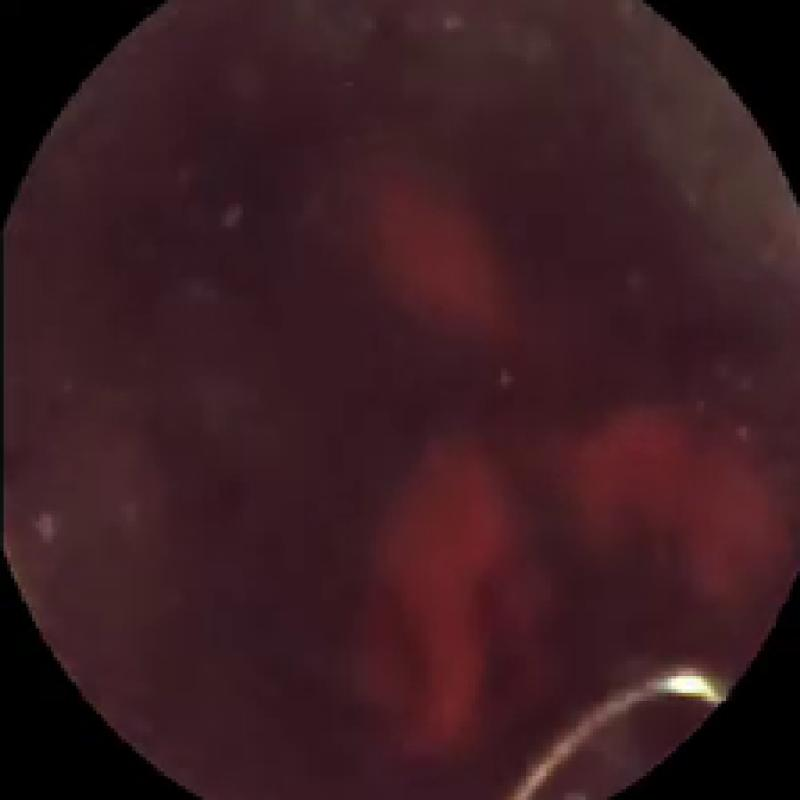bleeding: (356, 441, 542, 761), (564, 411, 787, 626), (364, 193, 514, 353)
